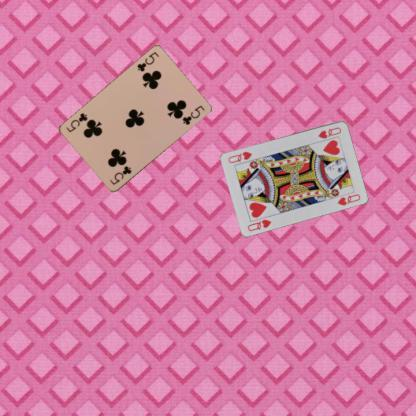5c: (135, 48, 160, 74), (107, 164, 133, 186)
Qh: (245, 216, 272, 233), (315, 124, 342, 140)
